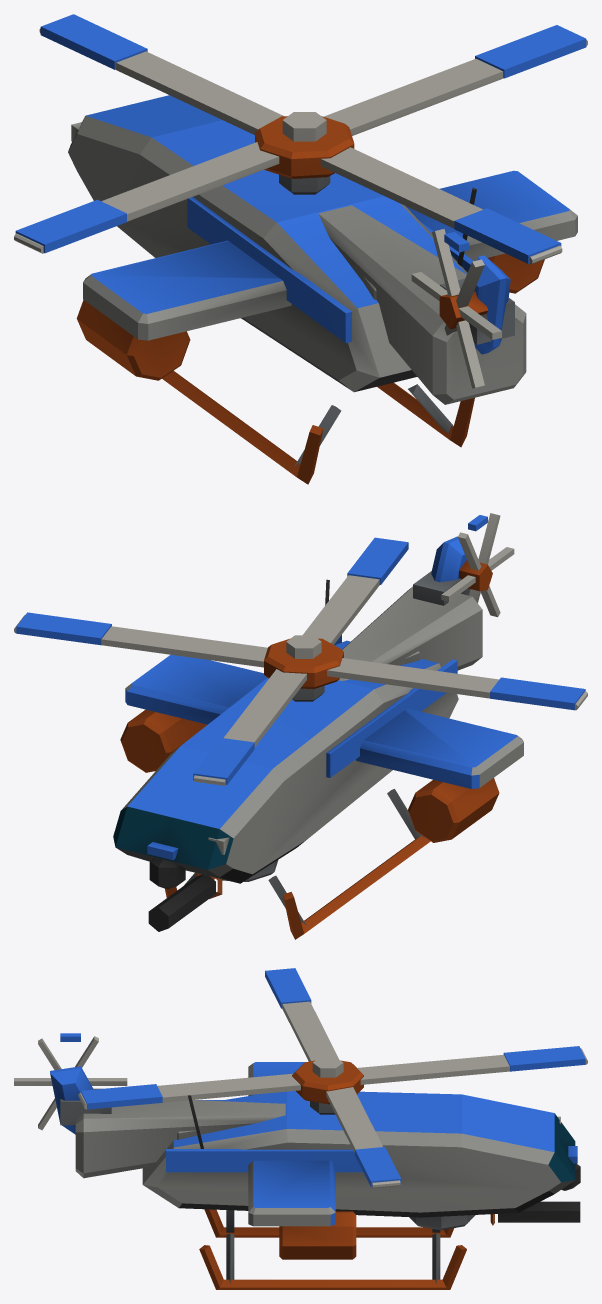
3 views of the same model, one above another, from view 1: azimuth 30°, elevation 25°; view 2: azimuth 150°, elevation 25°; view 3: azimuth 270°, elevation 25° (orthographic). The views are drawn at different scales.
Visible parts, largest first — view 1: body, spinRotor, spinTailRotor; view 2: body, spinRotor, spinTailRotor, barrel; view 3: body, spinRotor, spinTailRotor, barrel, turret.
Part boxes in pixels (x1,y1,x2,y2): body: [68, 95, 577, 484]; spinRotor: [14, 14, 587, 264]; spinTailRotor: [411, 229, 501, 388]; body: [113, 536, 523, 939]; spinRotor: [14, 537, 587, 785]; spinTailRotor: [441, 513, 514, 617]; barrel: [148, 873, 222, 931]; body: [50, 1062, 580, 1289]; spinRotor: [78, 968, 587, 1188]; spinTailRotor: [14, 1033, 127, 1130]; barrel: [490, 1201, 580, 1225]; turret: [409, 1215, 475, 1230].
Bounding box in the file's own units: 1.98 × 0.934 × 2.23.
